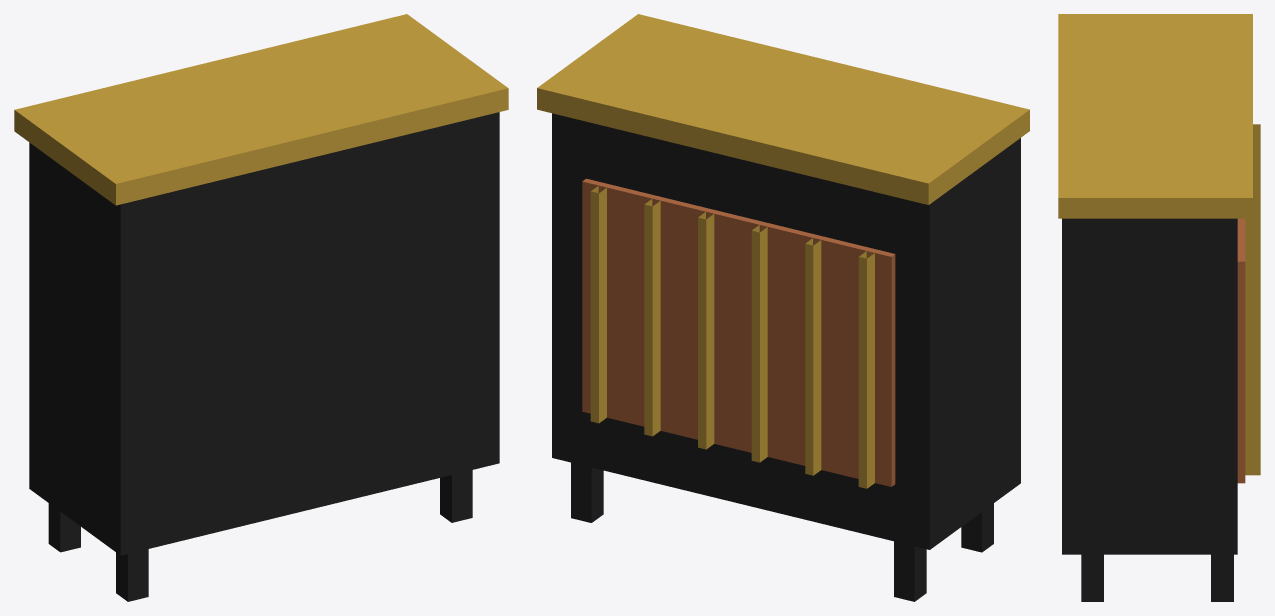
Rendered from parametric-heater-2nd-pub.glb.
3 renders of one model, left to right at view 1: azimuth 30°, elevation 25°; view 2: azimuth 150°, elevation 25°; view 3: azimuth 270°, elevation 25°, orthographic. The views are drawn at different scales.
Visible parts, largest first — view 1: parametric-heater-2nd-pub; view 2: parametric-heater-2nd-pub; view 3: parametric-heater-2nd-pub.
Part boxes in pixels (x1=…): parametric-heater-2nd-pub: x1=14, y1=14, x2=508, y2=601; parametric-heater-2nd-pub: x1=537, y1=14, x2=1029, y2=601; parametric-heater-2nd-pub: x1=1058, y1=14, x2=1260, y2=601.
Bounding box in the file's own units: 0.57 × 0.6 × 0.265.
